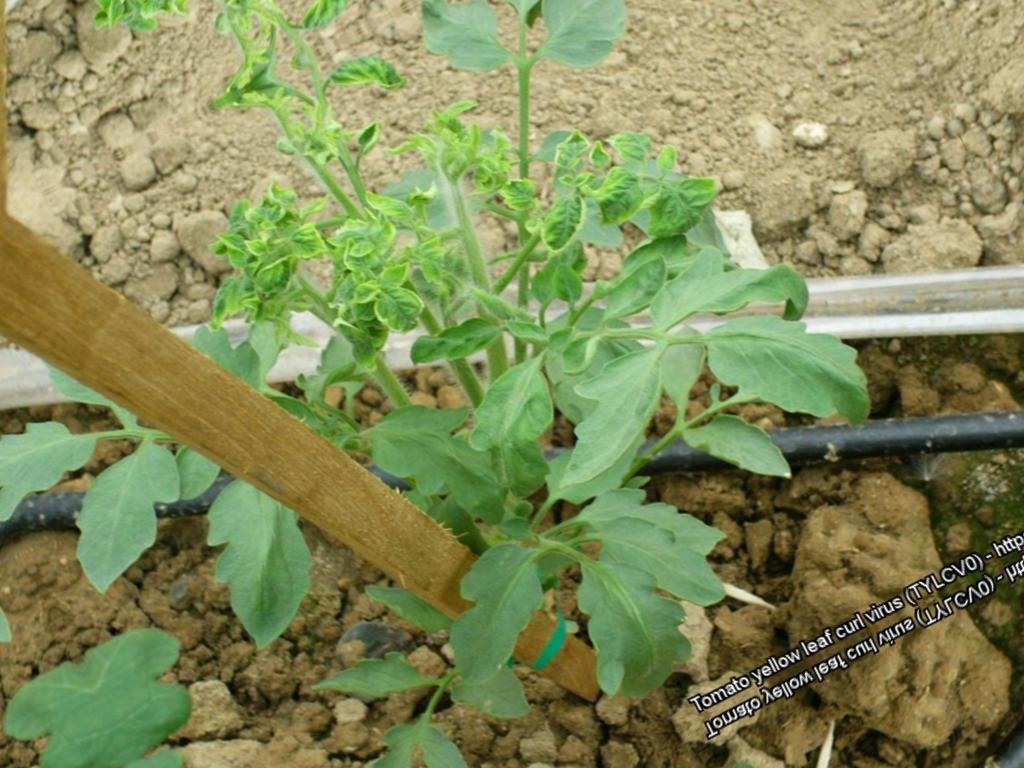Tomato leaf: (692, 274, 884, 481), (521, 303, 723, 481), (538, 525, 710, 716), (343, 367, 519, 553), (170, 461, 334, 651), (36, 431, 203, 599), (409, 530, 576, 696), (582, 479, 740, 641), (0, 376, 122, 524), (304, 622, 440, 734), (673, 387, 794, 511), (404, 0, 540, 109), (512, 0, 647, 89), (580, 249, 681, 334)
